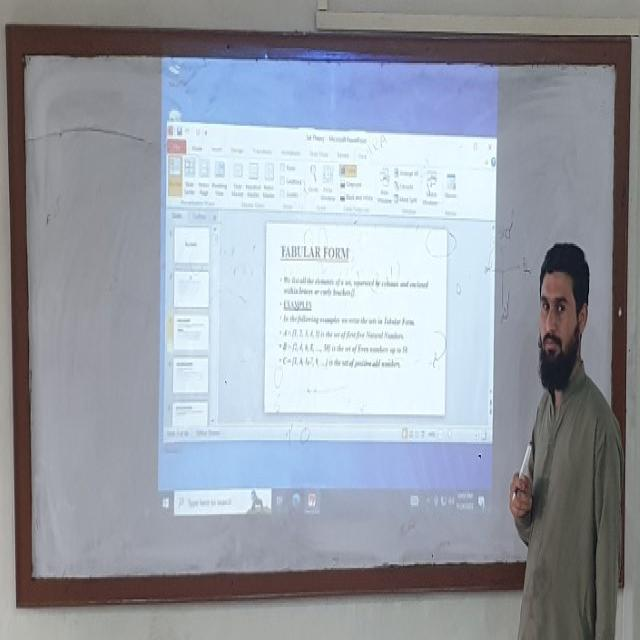Instructor: (522, 235, 619, 640)
Slide: (156, 36, 501, 521)
White-board: (18, 38, 627, 597)
